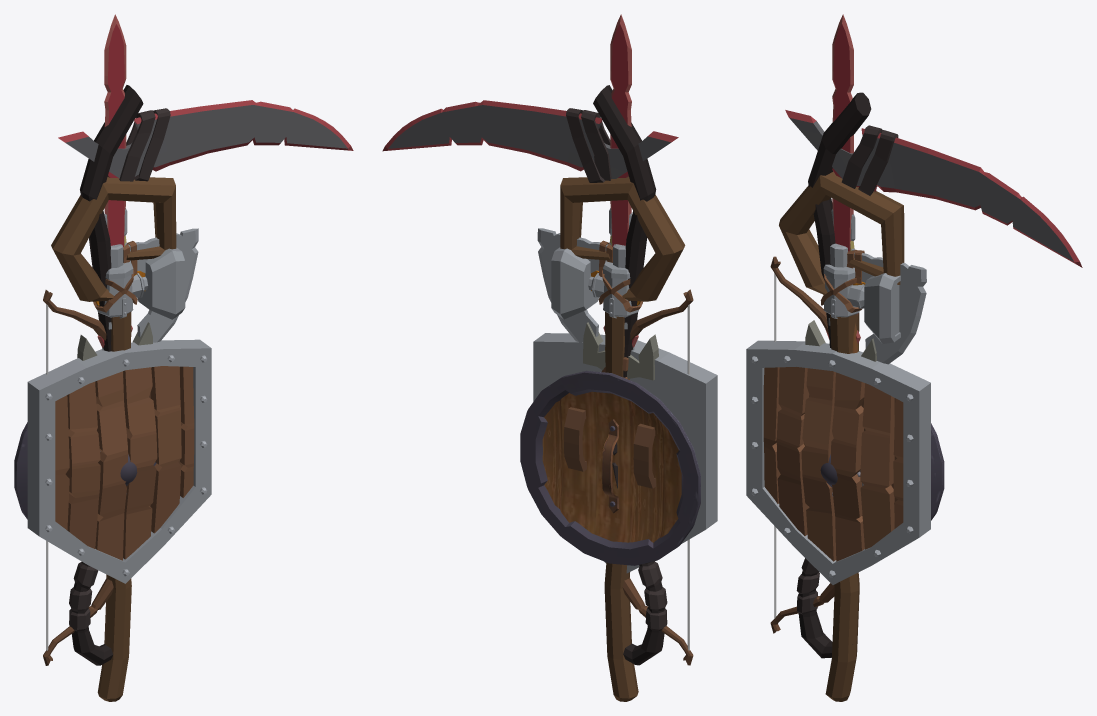
File: weapons.glb
3 views of the same model, side by side, from view 1: azimuth 30°, elevation 25°; view 2: azimuth 150°, elevation 25°; view 3: azimuth 330°, elevation 25° (orthographic).
Parts seen in each view (by area): view 1: Weapon_Shield_Heater_Mesh, Weapon_Scythe_Dark_Mesh, Weapon_Staff_Mesh, Weapon_Club_Mesh, Weapon_Greatsword_Dark_Mesh, Weapon_Axe_Mesh, Weapon_Bow_Mesh, Weapon_Shield_Mesh; view 2: Weapon_Shield_Mesh, Weapon_Scythe_Dark_Mesh, Weapon_Shield_Heater_Mesh, Weapon_Staff_Mesh, Weapon_Greatsword_Dark_Mesh, Weapon_Club_Mesh, Weapon_Axe_Mesh, Weapon_Bow_Mesh; view 3: Weapon_Shield_Heater_Mesh, Weapon_Scythe_Dark_Mesh, Weapon_Staff_Mesh, Weapon_Club_Mesh, Weapon_Axe_Mesh, Weapon_Greatsword_Dark_Mesh, Weapon_Bow_Mesh, Weapon_Shield_Mesh.
Boxes of the visible parts, x1=… form: Weapon_Shield_Heater_Mesh: x1=27, y1=339, x2=211, y2=583; Weapon_Scythe_Dark_Mesh: x1=58, y1=85, x2=353, y2=665; Weapon_Staff_Mesh: x1=51, y1=177, x2=176, y2=701; Weapon_Club_Mesh: x1=93, y1=247, x2=185, y2=319; Weapon_Greatsword_Dark_Mesh: x1=77, y1=14, x2=152, y2=360; Weapon_Axe_Mesh: x1=108, y1=228, x2=198, y2=342; Weapon_Bow_Mesh: x1=43, y1=290, x2=113, y2=665; Weapon_Shield_Mesh: x1=14, y1=422, x2=156, y2=519; Weapon_Shield_Mesh: x1=520, y1=370, x2=700, y2=565; Weapon_Scythe_Dark_Mesh: x1=382, y1=85, x2=678, y2=665; Weapon_Shield_Heater_Mesh: x1=533, y1=333, x2=717, y2=573; Weapon_Staff_Mesh: x1=560, y1=177, x2=685, y2=701; Weapon_Greatsword_Dark_Mesh: x1=583, y1=14, x2=658, y2=380; Weapon_Club_Mesh: x1=551, y1=247, x2=642, y2=319; Weapon_Axe_Mesh: x1=537, y1=228, x2=629, y2=379; Weapon_Bow_Mesh: x1=601, y1=289, x2=693, y2=665; Weapon_Shield_Heater_Mesh: x1=746, y1=340, x2=930, y2=584; Weapon_Scythe_Dark_Mesh: x1=785, y1=92, x2=1082, y2=658; Weapon_Staff_Mesh: x1=779, y1=172, x2=904, y2=701; Weapon_Club_Mesh: x1=820, y1=264, x2=900, y2=343; Weapon_Axe_Mesh: x1=828, y1=243, x2=926, y2=364; Weapon_Greatsword_Dark_Mesh: x1=805, y1=14, x2=876, y2=361; Weapon_Bow_Mesh: x1=770, y1=256, x2=834, y2=633; Weapon_Shield_Mesh: x1=804, y1=423, x2=944, y2=520.
Bounding box in the file's own units: 1.14 × 2.27 × 0.1804.
Materials: 21 (3 with a texture image).
